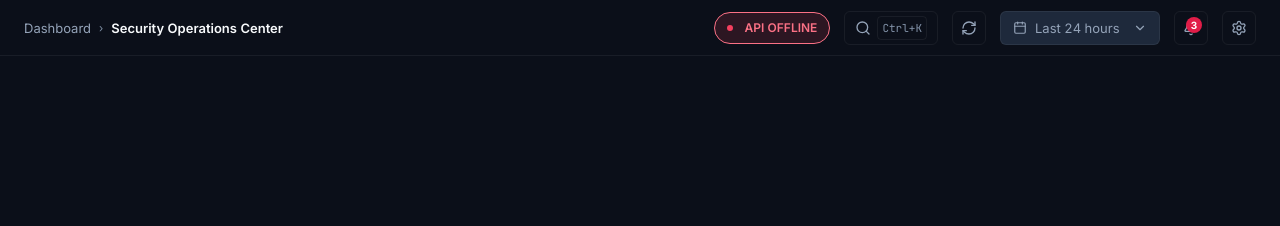
time-range listbox (FIX-26: cosmetic over cached data) › switches the label and issues NO data refetch (pinned current behavior)
Click the button "Last 24 hours". click: (1080, 28)
box: x1=1000 y1=10 x2=1160 y2=44
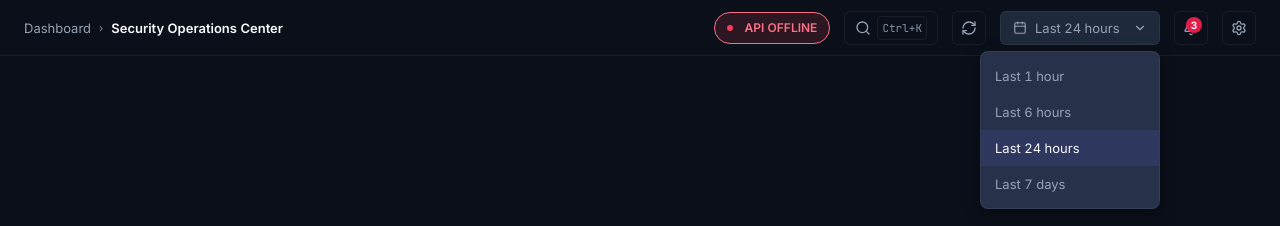
Click the option "Last 1 hour". click: (1030, 76)
box: x1=995 y1=68 x2=1064 y2=84
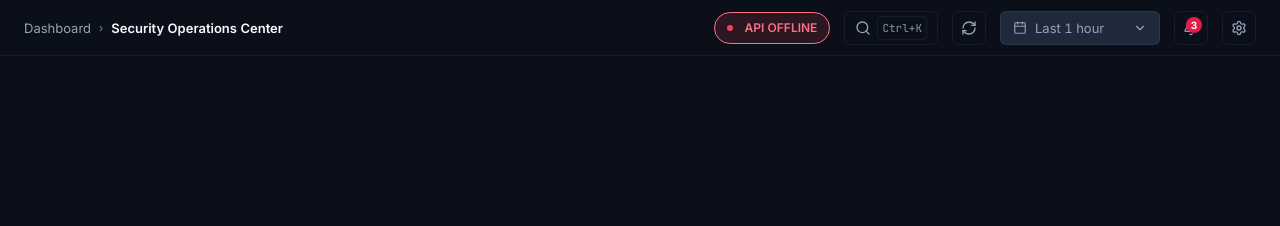
expect the button "Last 1 hour" is shown: met, box x1=1000 y1=10 x2=1160 y2=44
expect the list is gone: met
